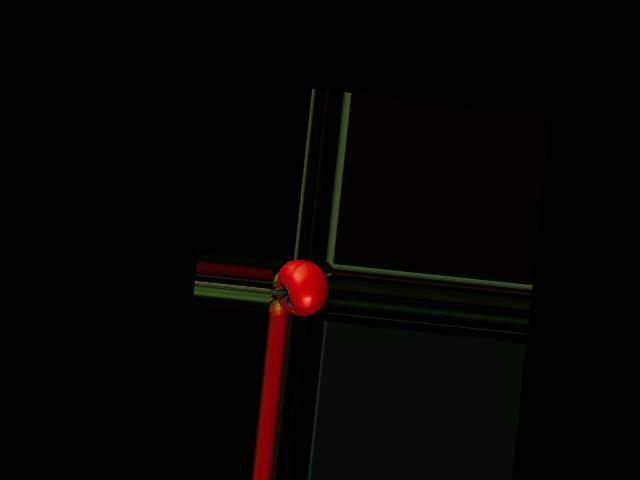tomato: (273, 257, 331, 317)
